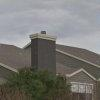Chimney: (25, 25, 61, 77)
